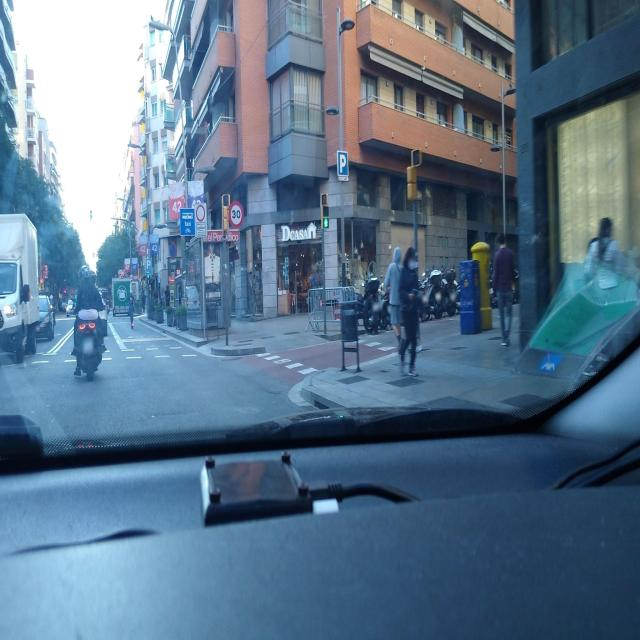bike: (72, 304, 105, 379), (361, 270, 384, 337)
car: (36, 293, 54, 340), (65, 299, 76, 317)
